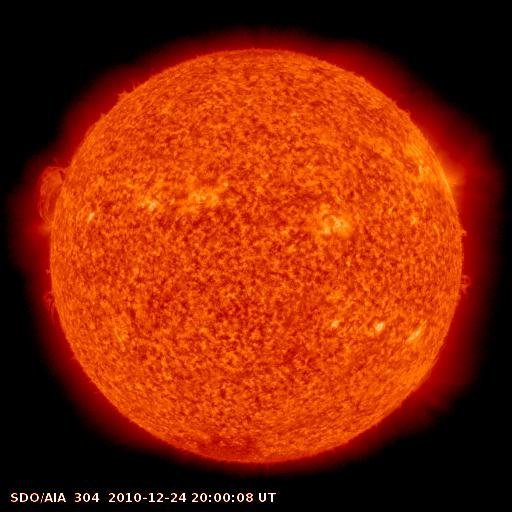prominence: (29, 158, 71, 230), (449, 264, 485, 305), (31, 288, 67, 323)
